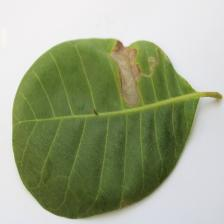leaf miner: (107, 40, 148, 110)
